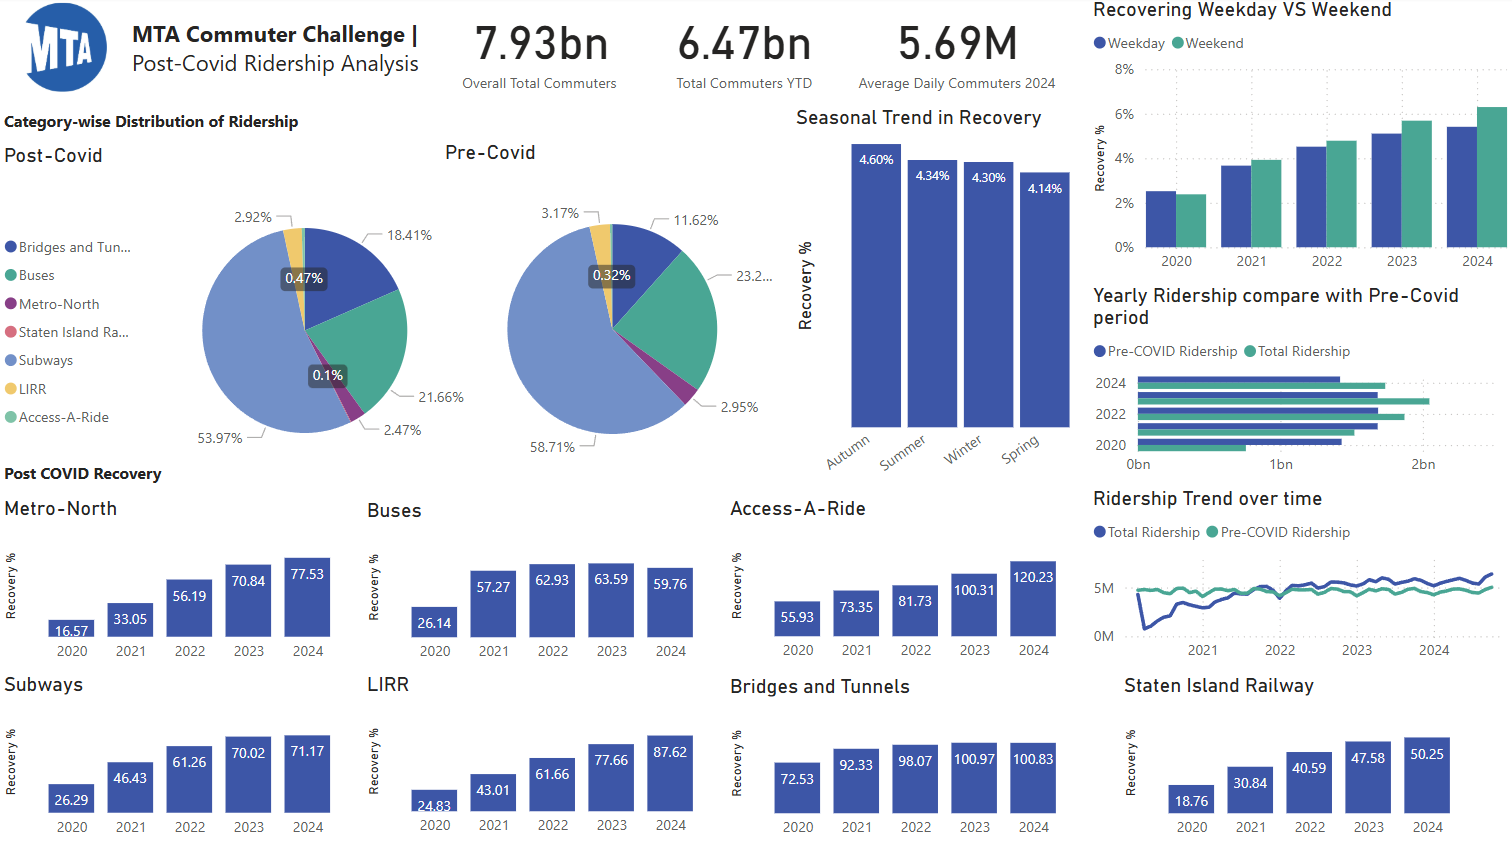

Layout of this report page (visuals, bound fields, positions):
{"tool":"powerbi","page":{"name":"Page 1","canvas":[1280,720],"ordinal":0},"visuals":[{"type":"clusteredColumnChart","title":"Seasonal Trend in Recovery","fields":{"Category":["MTA_Daily_Ridership.Season"],"Y":["MTA_Daily_Ridership.Recovery_Percentage_Seasonal"]},"box":[669.6,90.9,261.1,332.6],"z":0},{"type":"lineChart","title":"Ridership Trend over time","fields":{"Y":["Avg(MTA_Daily_Ridership.Absolute Total Estimated Ridership)","Avg(MTA_Daily_Ridership.Pre-COVID Ridership)"],"Category":["MTA_Daily_Ridership.Date.Variation.Date Hierarchy.Year","MTA_Daily_Ridership.Date.Variation.Date Hierarchy.Quarter","MTA_Daily_Ridership.Date.Variation.Date Hierarchy.Month"]},"box":[920.3,413.2,360,157.2],"z":1000},{"type":"clusteredColumnChart","title":"Access-A-Ride","fields":{"Category":["MTA_Daily_Ridership.Date.Variation.Date Hierarchy.Year"],"Y":["Avg(MTA_Daily_Ridership.Access-A-Ride: % of Comparable Pre-Pandemic Day)"]},"box":[613.5,421.7,306.8,148.7],"z":2000},{"type":"pieChart","title":"Post-Covid","fields":{"Y":["Avg(MTA_Daily_Ridership.Bridges and Tunnels: Total Traffic)","Avg(MTA_Daily_Ridership.Buses: Total Estimated Ridership)","Avg(MTA_Daily_Ridership.Metro-North: Total Estimated Ridership)","Avg(MTA_Daily_Ridership.Staten Island Railway: Total Estimated Ridership)","Avg(MTA_Daily_Ridership.Subways: Total Estimated Ridership)","Avg(MTA_Daily_Ridership.LIRR: Total Estimated Ridership)","Avg(MTA_Daily_Ridership.Access-A-Ride: Total Scheduled Trips)"]},"box":[0,123.5,400.5,298.2],"z":3000},{"type":"clusteredBarChart","title":"Yearly Ridership compare with Pre-Covid period","fields":{"Category":["MTA_Daily_Ridership.Date.Variation.Date Hierarchy.Year"],"Y":["Sum(MTA_Daily_Ridership.Pre-COVID Ridership)","Sum(MTA_Daily_Ridership.Absolute Total Estimated Ridership)"]},"box":[920.3,241.7,360,171.5],"z":4000},{"type":"card","fields":{"Values":["Sum(MTA_Daily_Ridership.Absolute Total Estimated Ridership)"]},"box":[372.3,0,172.9,85.6],"z":5000},{"type":"card","fields":{"Values":["MTA_Daily_Ridership.Total Commuters YTD"]},"box":[545.2,0,171.1,85.6],"z":6000},{"type":"card","fields":{"Values":["MTA_Daily_Ridership.Average_Daily_Commuters_2024"]},"box":[700.4,0,219.7,85.6],"z":7000},{"type":"pieChart","title":"Pre-Covid","fields":{"Y":["Avg(MTA_Daily_Ridership.Bridges and Tunnels Comparable Pre-Pandemic Ridership)","Avg(MTA_Daily_Ridership.Buses Comparable Pre-Pandemic Ridership)","Avg(MTA_Daily_Ridership.Metro-North Comparable Pre-Pandemic Ridership)","Avg(MTA_Daily_Ridership.Staten Island Railway Comparable Pre-Pandemic Ridership)","Avg(MTA_Daily_Ridership.Subways Comparable Pre-Pandemic Ridership)","Avg(MTA_Daily_Ridership.LIRR Comparable Pre-Pandemic Ridership)","Avg(MTA_Daily_Ridership.Access-A-Ride Comparable Pre-Pandemic Ridership)"]},"box":[372.3,120.9,292.9,300.8],"z":8000},{"type":"clusteredColumnChart","title":"Staten Island Railway","fields":{"Category":["MTA_Daily_Ridership.Date.Variation.Date Hierarchy.Year"],"Y":["Avg(MTA_Daily_Ridership.Staten Island Railway: % of Comparable Pre-Pandemic Day)"]},"box":[946.5,571.3,306.8,148.7],"z":9000},{"type":"clusteredColumnChart","title":"Metro-North","fields":{"Category":["MTA_Daily_Ridership.Date.Variation.Date Hierarchy.Year"],"Y":["Avg(MTA_Daily_Ridership.Metro-North: % of Comparable Pre-Pandemic Day)"]},"box":[0,421.3,307,149.1],"z":10000},{"type":"clusteredColumnChart","title":"Subways","fields":{"Category":["MTA_Daily_Ridership.Date.Variation.Date Hierarchy.Year"],"Y":["Avg(MTA_Daily_Ridership.Subways: % of Comparable Pre-Pandemic Day)"]},"box":[0,570.4,307,149.1],"z":11000},{"type":"clusteredColumnChart","title":"LIRR","fields":{"Category":["MTA_Daily_Ridership.Date.Variation.Date Hierarchy.Year"],"Y":["Avg(MTA_Daily_Ridership.LIRR: % of Comparable Pre-Pandemic Day)"]},"box":[306.8,570.4,306.8,147.9],"z":12000},{"type":"clusteredColumnChart","title":"Buses","fields":{"Category":["MTA_Daily_Ridership.Date.Variation.Date Hierarchy.Year"],"Y":["Avg(MTA_Daily_Ridership.Buses: % of Comparable Pre-Pandemic Day)"]},"box":[306.8,423.4,306.8,147.9],"z":13000},{"type":"clusteredColumnChart","title":"Bridges and Tunnels","fields":{"Category":["MTA_Daily_Ridership.Date.Variation.Date Hierarchy.Year"],"Y":["Avg(MTA_Daily_Ridership.Bridges and Tunnels: % of Comparable Pre-Pandemic Day)"]},"box":[613.5,572.1,306.8,147.9],"z":14000},{"type":"image","box":[0,0,108.2,84.5],"z":15000},{"type":"clusteredColumnChart","title":"Recovering Weekday VS Weekend","fields":{"Y":["MTA_Daily_Ridership.Recovery_Percentage"],"Category":["MTA_Daily_Ridership.Date.Variation.Date Hierarchy.Year"],"Series":["MTA_Daily_Ridership.Day Type"]},"box":[920.3,0,360,241.7],"z":16000},{"type":"textbox","box":[108.2,12.7,264.5,60.8],"z":17000},{"type":"textbox","box":[0,90.9,273.5,32.6],"z":18000},{"type":"textbox","box":[0,388.7,273,33],"z":18001}]}

Visuals, with their boxes in screenshot pixels (x1, y1, x2, y2), scaled from the page's 1280x720 canvas onto the 1512x848 screenshot:
"Seasonal Trend in Recovery" clusteredColumnChart: crop(791, 107, 1099, 499)
"Ridership Trend over time" lineChart: crop(1087, 487, 1511, 672)
"Access-A-Ride" clusteredColumnChart: crop(725, 497, 1087, 672)
"Post-Covid" pieChart: crop(0, 145, 473, 497)
"Yearly Ridership compare with Pre-Covid period" clusteredBarChart: crop(1087, 285, 1511, 487)
card - Sum(MTA_Daily_Ridership.Absolute Total Estimated Ridership): crop(440, 0, 644, 101)
card - MTA_Daily_Ridership.Total Commuters YTD: crop(644, 0, 846, 101)
card - MTA_Daily_Ridership.Average_Daily_Commuters_2024: crop(827, 0, 1087, 101)
"Pre-Covid" pieChart: crop(440, 142, 786, 497)
"Staten Island Railway" clusteredColumnChart: crop(1118, 673, 1480, 847)
"Metro-North" clusteredColumnChart: crop(0, 496, 363, 672)
"Subways" clusteredColumnChart: crop(0, 672, 363, 847)
"LIRR" clusteredColumnChart: crop(362, 672, 725, 846)
"Buses" clusteredColumnChart: crop(362, 499, 725, 673)
"Bridges and Tunnels" clusteredColumnChart: crop(725, 674, 1087, 847)
image: crop(0, 0, 128, 100)
"Recovering Weekday VS Weekend" clusteredColumnChart: crop(1087, 0, 1511, 285)
textbox: crop(128, 15, 440, 87)
textbox: crop(0, 107, 323, 145)
textbox: crop(0, 458, 322, 497)
